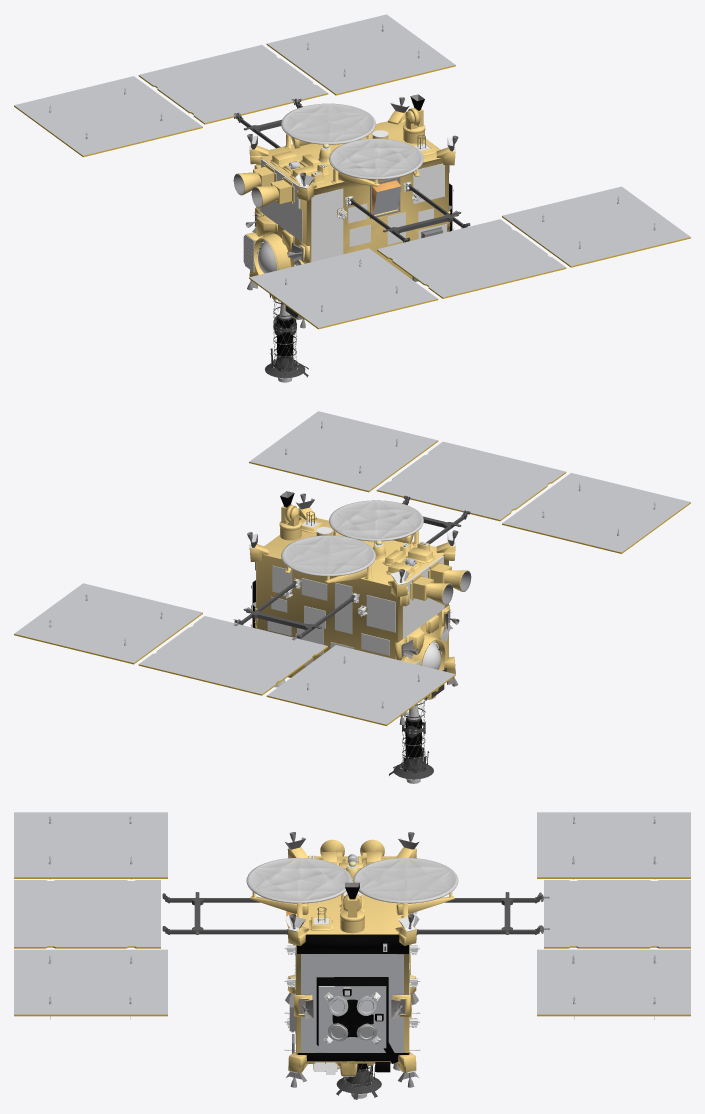
Rendered from sc_hayabusa2.glb.
3 renders of one model, top to bottom at view 1: azimuth 30°, elevation 25°; view 2: azimuth 150°, elevation 25°; view 3: azimuth 270°, elevation 25°, orthographic. The views are drawn at different scales.
Parts seen in each view (by area): view 1: 01_LP_Bakes.001, Cube.001, BUS.006, pCylinder431.002, pCylinder431.003, pCube123.001, Cube.025, pCube132.007, pCylinder129.003, Front_Foil4.001, pCylinder129.004, parts7.001 (+2 smaller); view 2: 01_LP_Bakes.001, Cube.001, BUS.008, pCylinder431.003, pCylinder431.002, pCube123.003, Cube.025, pCube132.007, Front_Foil4.001, pCylinder129.004, pCylinder129.003, parts7.001 (+1 smaller); view 3: 01_LP_Bakes.001, BUS.020, pCylinder431.002, pCylinder431.003, Cube.001, Cube.023, pCube123.001, pCube123.003, pCylinder15.007, black2.001, Plane.001, pCube132.007 (+6 smaller).
Boxes of the visible parts, x1,y1,x2,y2 form: 01_LP_Bakes.001: [14, 14, 690, 329]; Cube.001: [256, 121, 448, 279]; BUS.006: [311, 163, 446, 261]; pCylinder431.002: [329, 138, 423, 179]; pCylinder431.003: [281, 103, 375, 144]; pCube123.001: [350, 184, 470, 242]; Cube.025: [260, 201, 302, 241]; pCube132.007: [249, 110, 455, 200]; pCylinder129.003: [251, 177, 294, 208]; Front_Foil4.001: [254, 162, 450, 263]; pCylinder129.004: [233, 164, 276, 195]; parts7.001: [273, 299, 297, 370]; 01_LP_Bakes.001: [14, 411, 690, 725]; Cube.001: [256, 518, 448, 677]; BUS.008: [267, 565, 395, 666]; pCylinder431.003: [281, 535, 375, 576]; pCylinder431.002: [329, 500, 423, 541]; pCube123.003: [234, 581, 354, 639]; Cube.025: [402, 598, 444, 638]; pCube132.007: [249, 507, 455, 597]; Front_Foil4.001: [254, 591, 450, 660]; pCylinder129.004: [410, 574, 453, 605]; pCylinder129.003: [428, 560, 471, 591]; parts7.001: [401, 699, 425, 771]; 01_LP_Bakes.001: [14, 812, 690, 1048]; BUS.020: [301, 954, 403, 1052]; pCylinder431.002: [246, 858, 352, 903]; pCylinder431.003: [352, 858, 458, 903]; Cube.001: [295, 856, 409, 1063]; Cube.023: [297, 935, 408, 953]; pCube123.001: [162, 892, 287, 934]; pCube123.003: [416, 892, 542, 935]; pCylinder15.007: [327, 996, 377, 1041]; black2.001: [297, 1040, 409, 1072]; Plane.001: [316, 977, 388, 1045]; pCube132.007: [287, 847, 416, 945].
Size of the model in its own units: 1.11 by 0.7213 by 1.58.
Materials: 34 (4 with a texture image).
